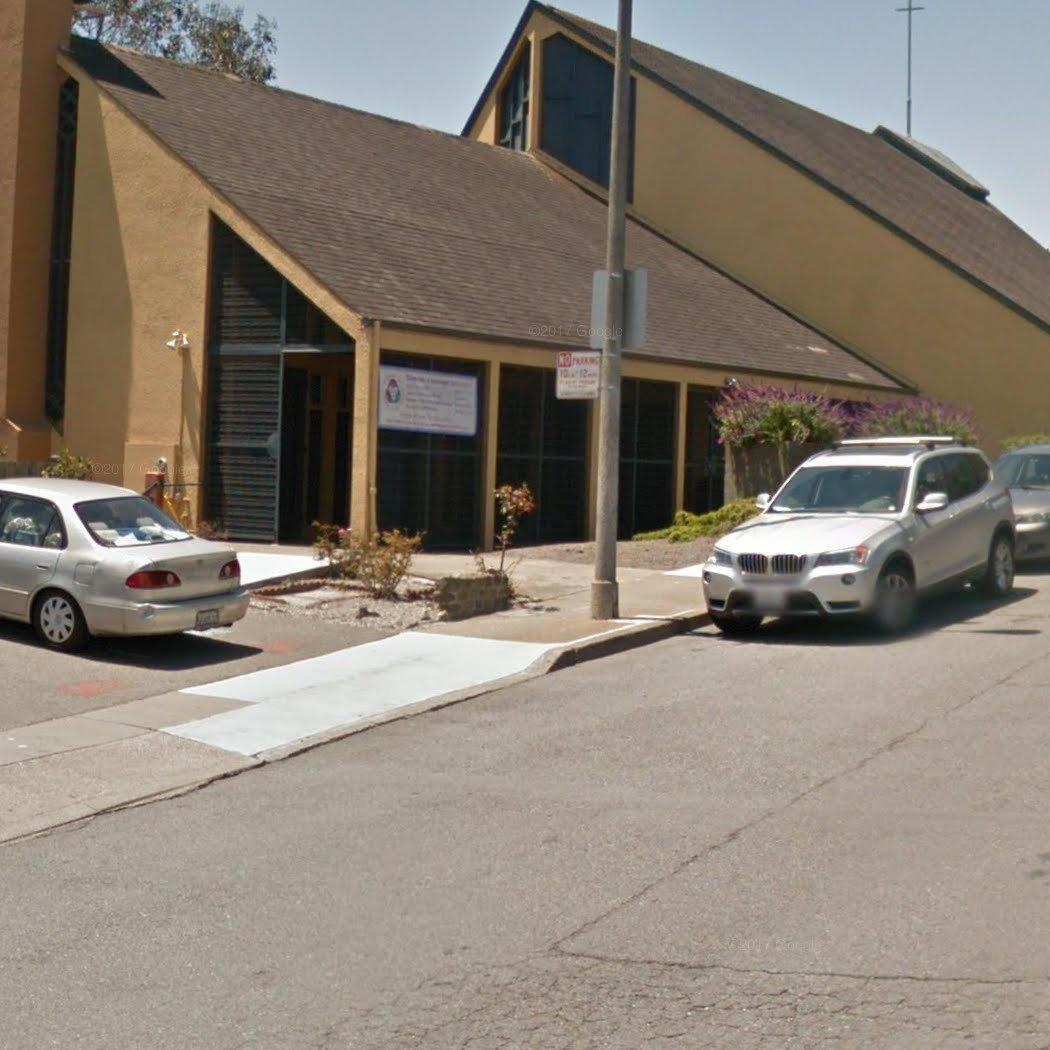No Parking: (554, 350, 605, 401)
